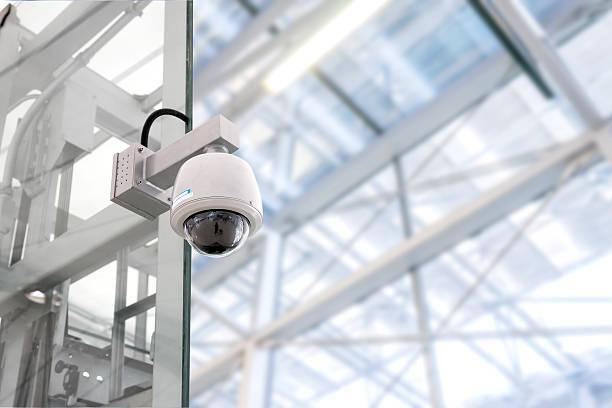camera: (156, 130, 284, 282)
